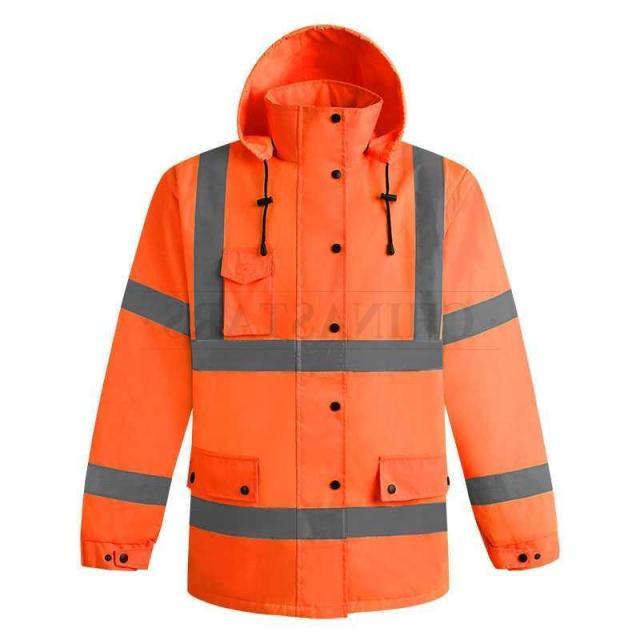Reflective-Jacket: (56, 124, 572, 621)
